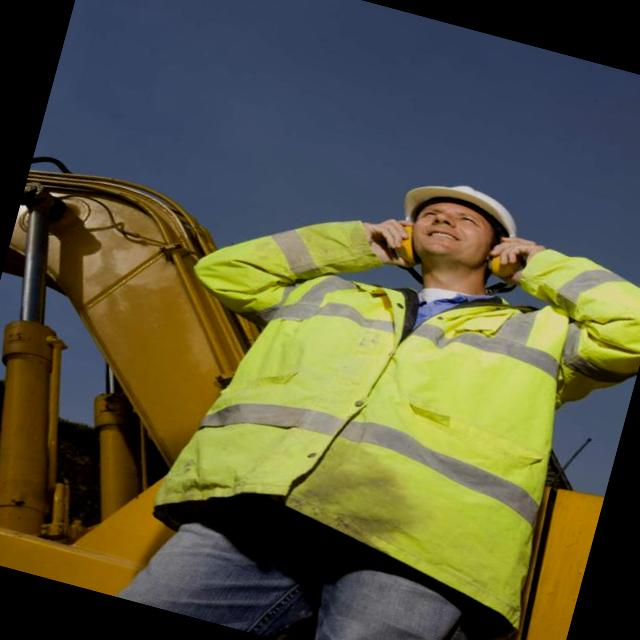helmet: (399, 170, 538, 247)
vest: (179, 214, 633, 598)
